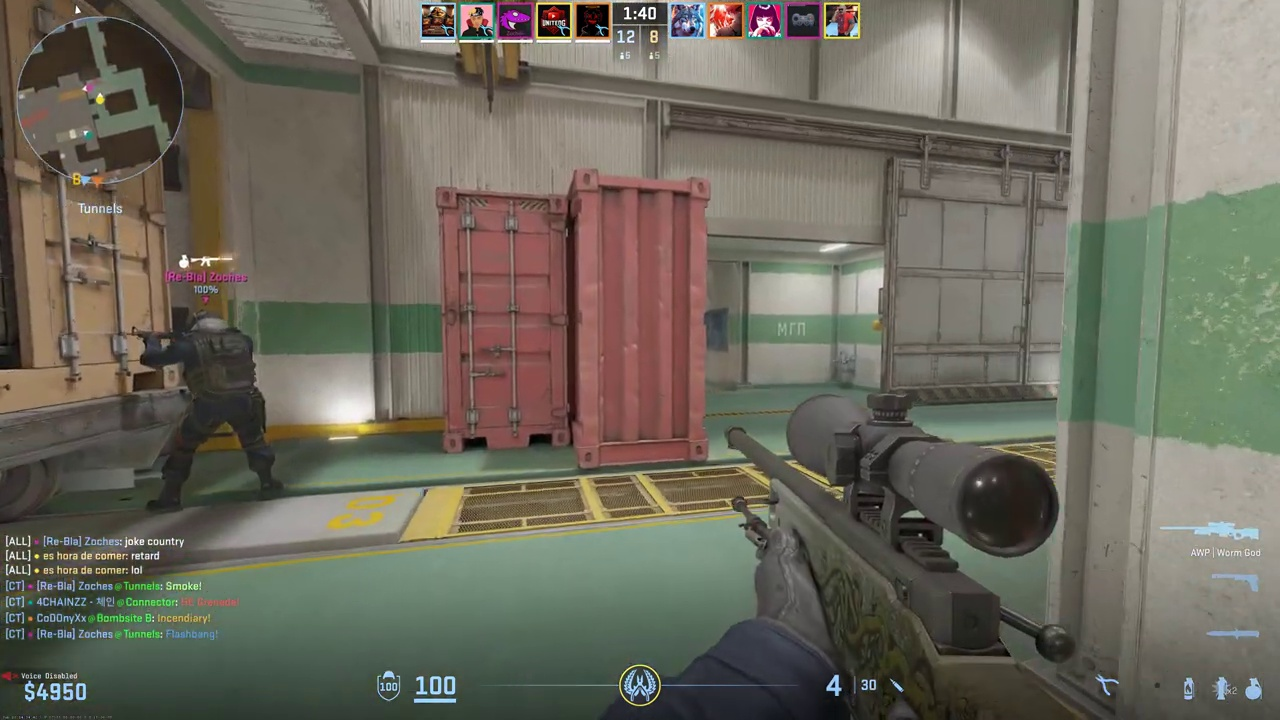Terrorist: (145, 311, 284, 513)
